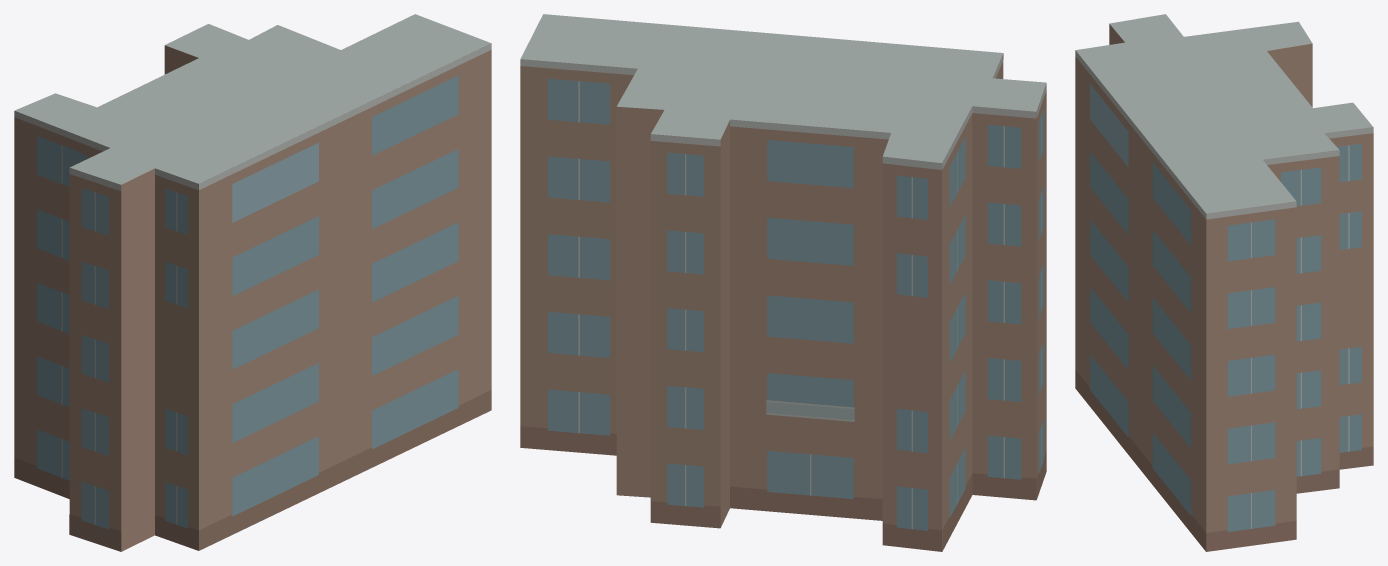
File: survey-upis-32643986.glb
The picture shows the model from 3 angles, left to right: view 1: azimuth 30°, elevation 25°; view 2: azimuth 150°, elevation 25°; view 3: azimuth 270°, elevation 25°; orthographic projection. The views are drawn at different scales.
Parts seen in each view (by area): view 1: survey-upis-32643986.tmp; view 2: survey-upis-32643986.tmp; view 3: survey-upis-32643986.tmp.
Boxes of the visible parts, x1,y1,x2,y2 form: survey-upis-32643986.tmp: (14,14,491,551); survey-upis-32643986.tmp: (520,14,1046,551); survey-upis-32643986.tmp: (1075,14,1373,551).
Size of the model in its own units: 17.62 by 13.91 by 11.12.
